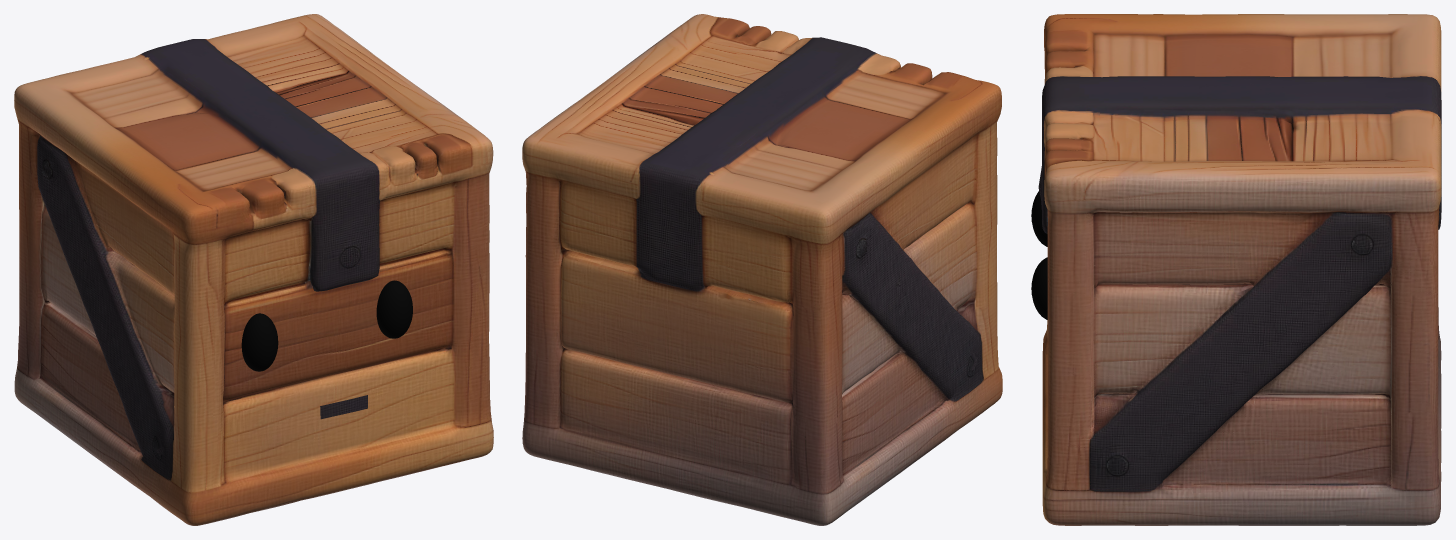
Rendered from 附身小箱.fbx.
3 views of the same model, side by side, from view 1: azimuth 30°, elevation 25°; view 2: azimuth 150°, elevation 25°; view 3: azimuth 270°, elevation 25° (orthographic). The views are drawn at different scales.
Visible parts, largest first — view 1: 被附身的box, eye.001; view 2: 被附身的box; view 3: 被附身的box, eye.001.
Part boxes in pixels (<box>): 被附身的box: <box>14,14,493,525</box>; eye.001: <box>241,280,412,371</box>; 被附身的box: <box>522,14,1002,525</box>; 被附身的box: <box>1038,14,1441,525</box>; eye.001: <box>1031,191,1047,319</box>.
Size of the model in its own units: 4975 by 4899 by 5072.
Materials: 2 (1 with a texture image).
